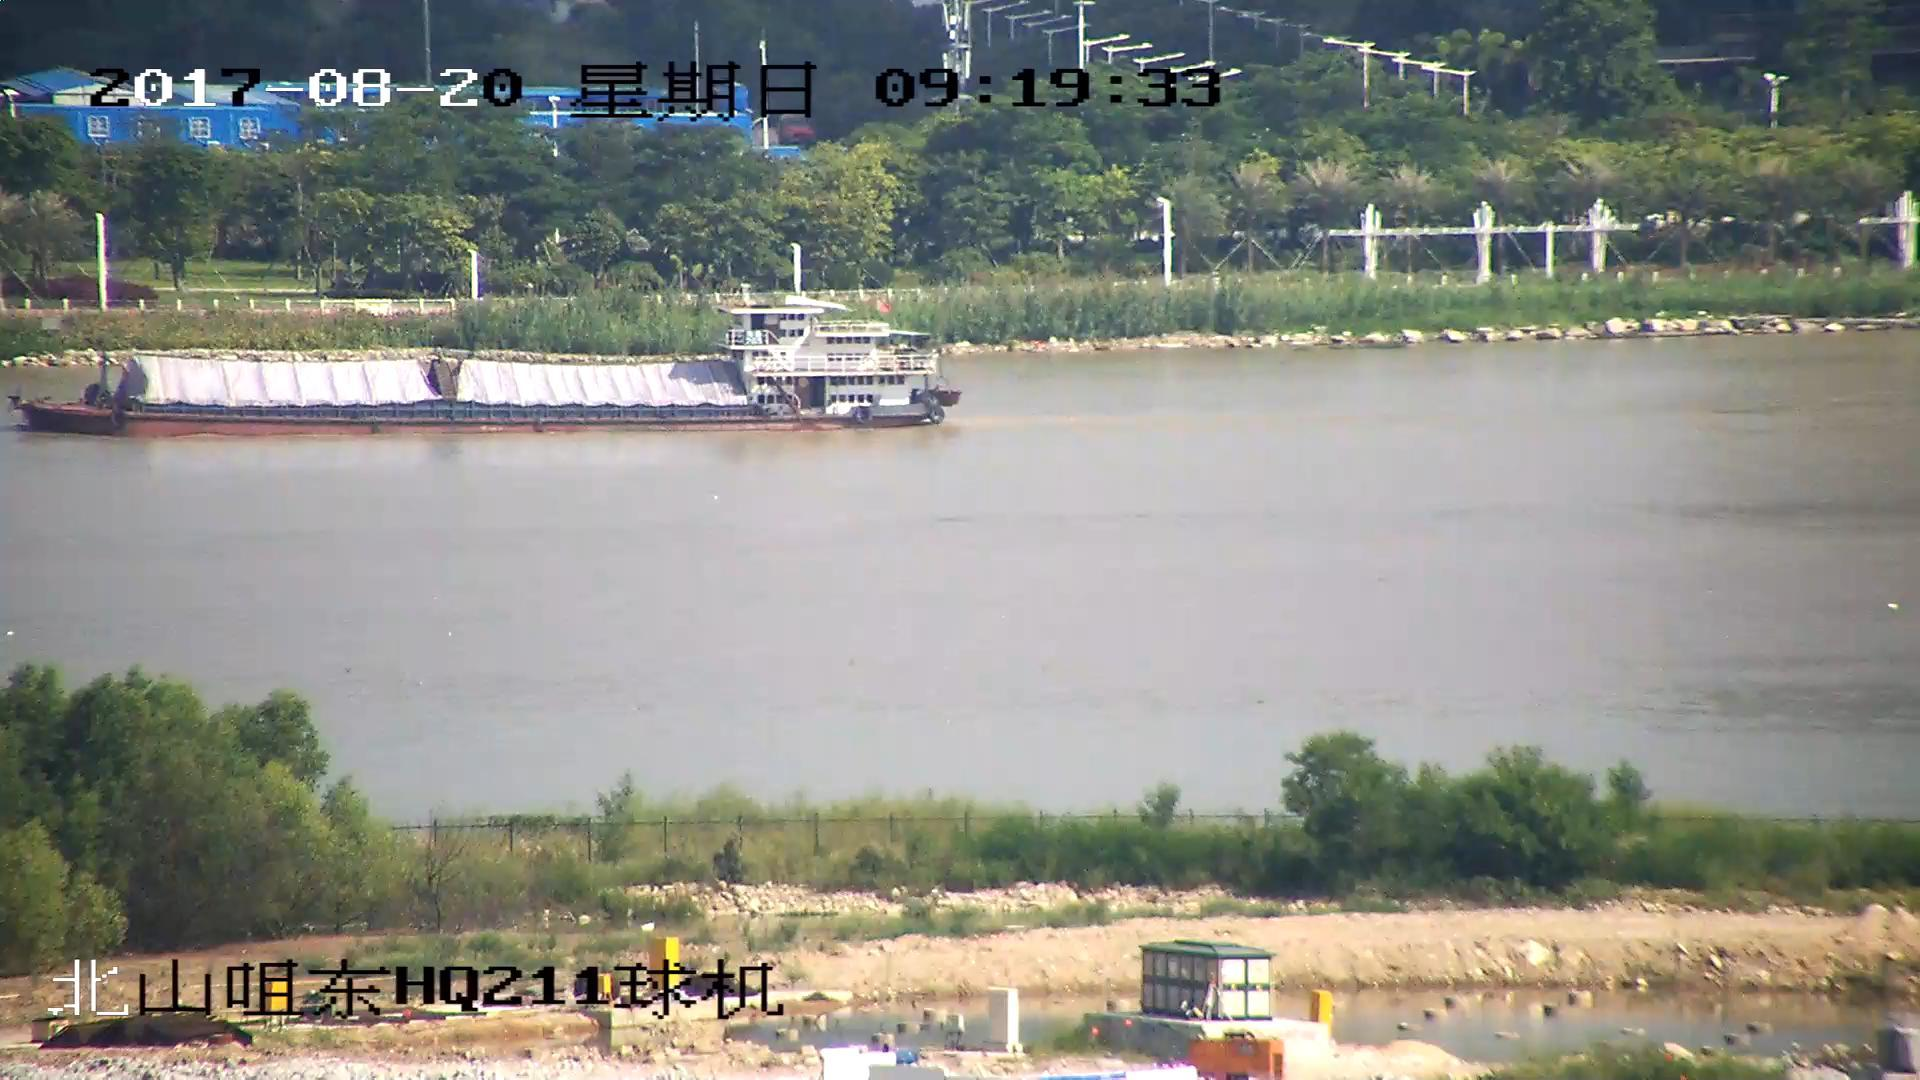Ship: (18, 281, 953, 435)
